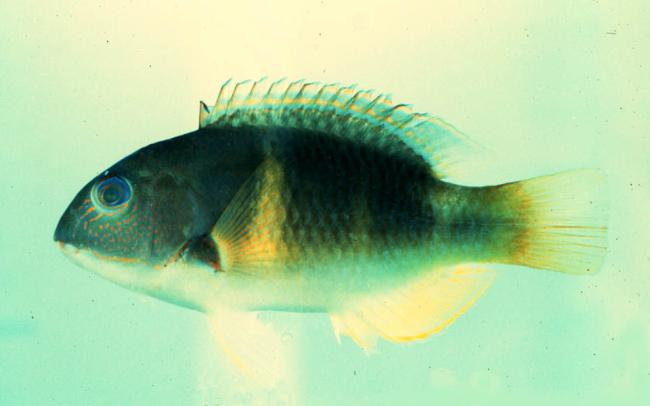fish: (53, 78, 611, 353)
